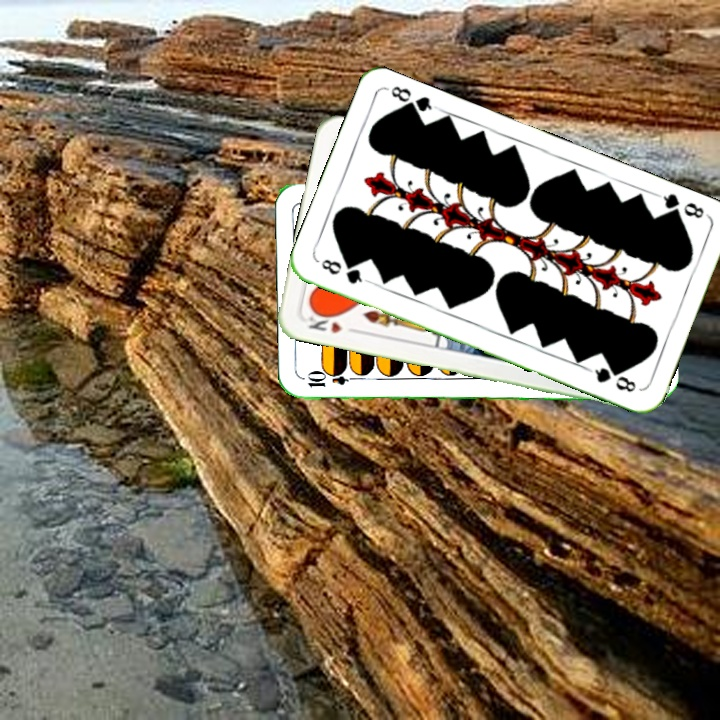E10: (303, 371, 362, 390)
G8: (653, 189, 710, 223), (317, 255, 371, 287)
HK: (304, 307, 360, 337)
